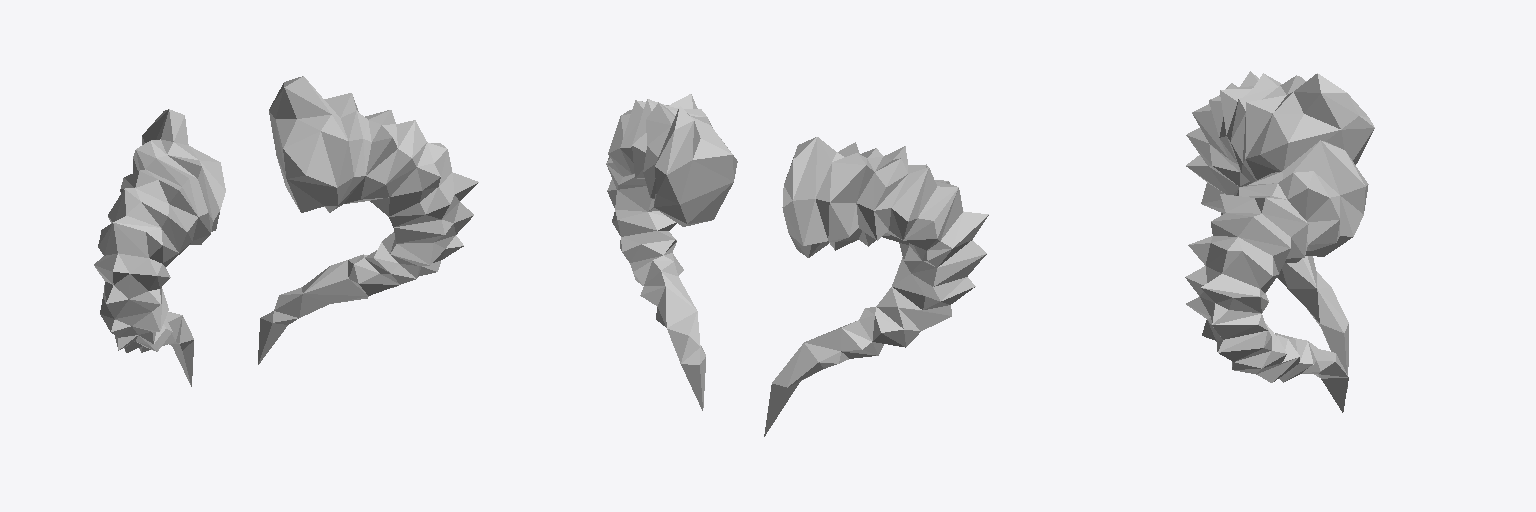
Rendered from boid3horns.obj.
The picture shows the model from 3 angles: view 1: azimuth 30°, elevation 25°; view 2: azimuth 150°, elevation 25°; view 3: azimuth 270°, elevation 25°; orthographic projection.
Parts seen in each view (by area): view 1: boid3horns; view 2: boid3horns; view 3: boid3horns.
Boxes of the visible parts, <box> form: boid3horns: <box>94,76,478,386</box>; boid3horns: <box>606,94,988,436</box>; boid3horns: <box>1185,71,1374,412</box>.
Size of the model in its own units: 2.17 by 1.68 by 0.9675.